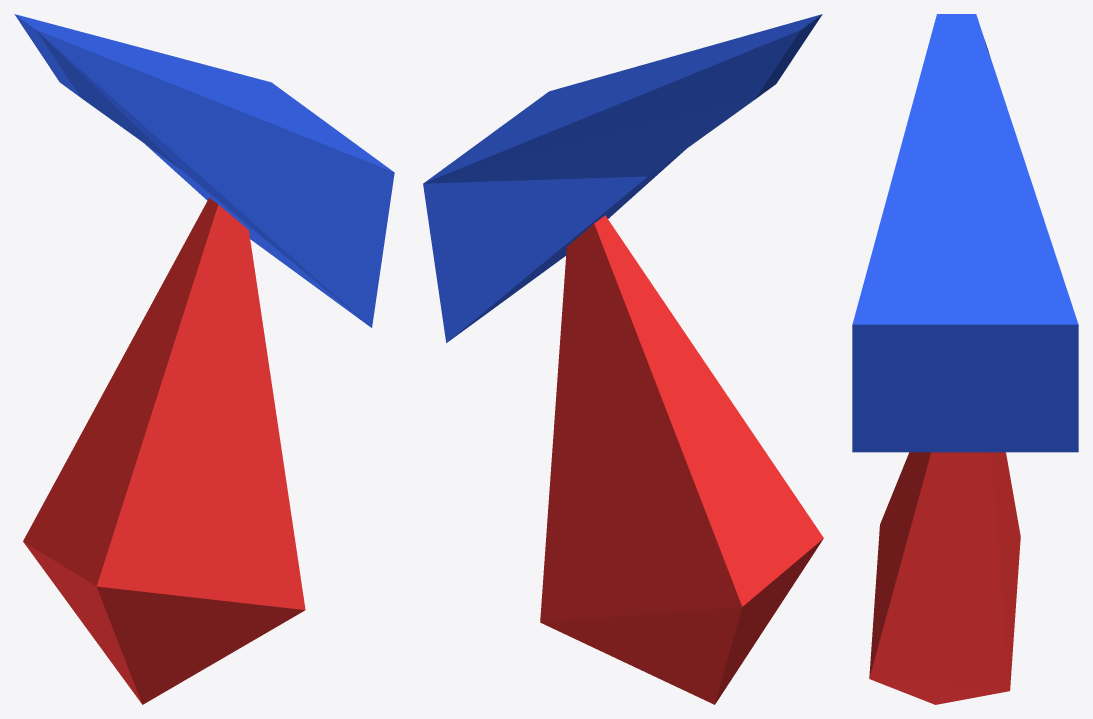
Rendered from float_R_arm.obj.
The picture shows the model from 3 angles, left to right: view 1: azimuth 30°, elevation 25°; view 2: azimuth 150°, elevation 25°; view 3: azimuth 270°, elevation 25°; orthographic projection. The views are drawn at different scales.
Visible parts, largest first — view 1: Right_arm; view 2: Right_arm; view 3: Right_arm.
Boxes of the visible parts, box(x1,y1,x2,y2) form: Right_arm: box(14, 14, 394, 704); Right_arm: box(423, 14, 823, 704); Right_arm: box(852, 14, 1078, 704).
Bounding box in the file's own units: 0.7513 × 1.61 × 0.512.
